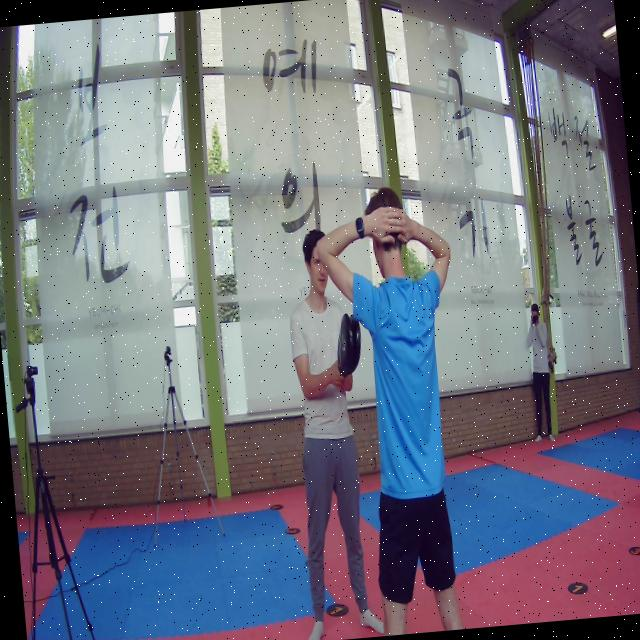paddle: (336, 312, 361, 375)
